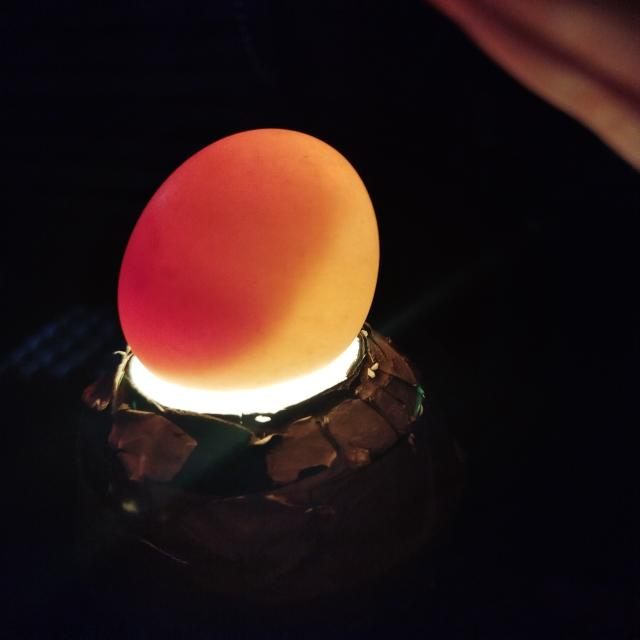Gema Quebrada: (116, 146, 282, 366)
